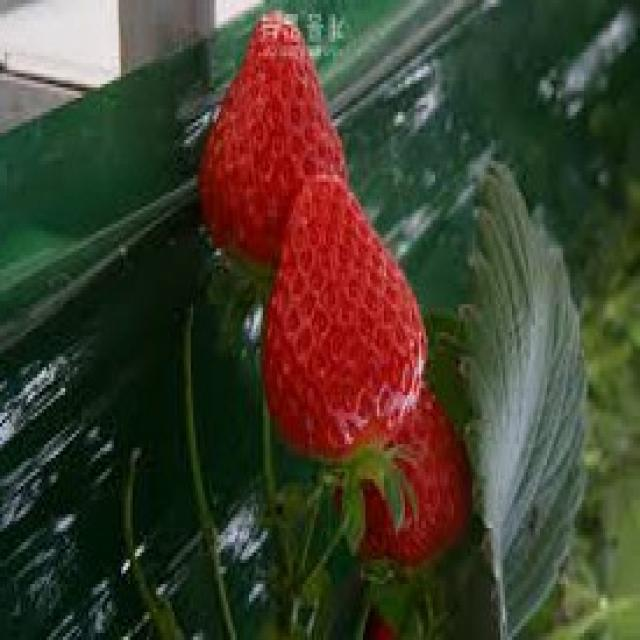mature: (262, 170, 429, 455), (199, 11, 345, 270)
